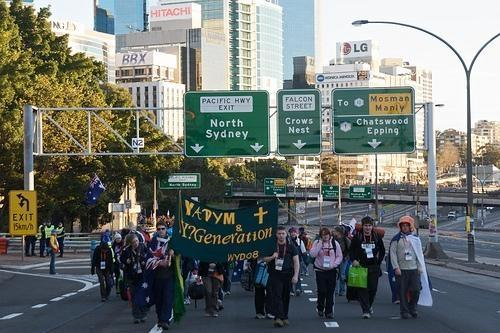car: (448, 212, 456, 220)
